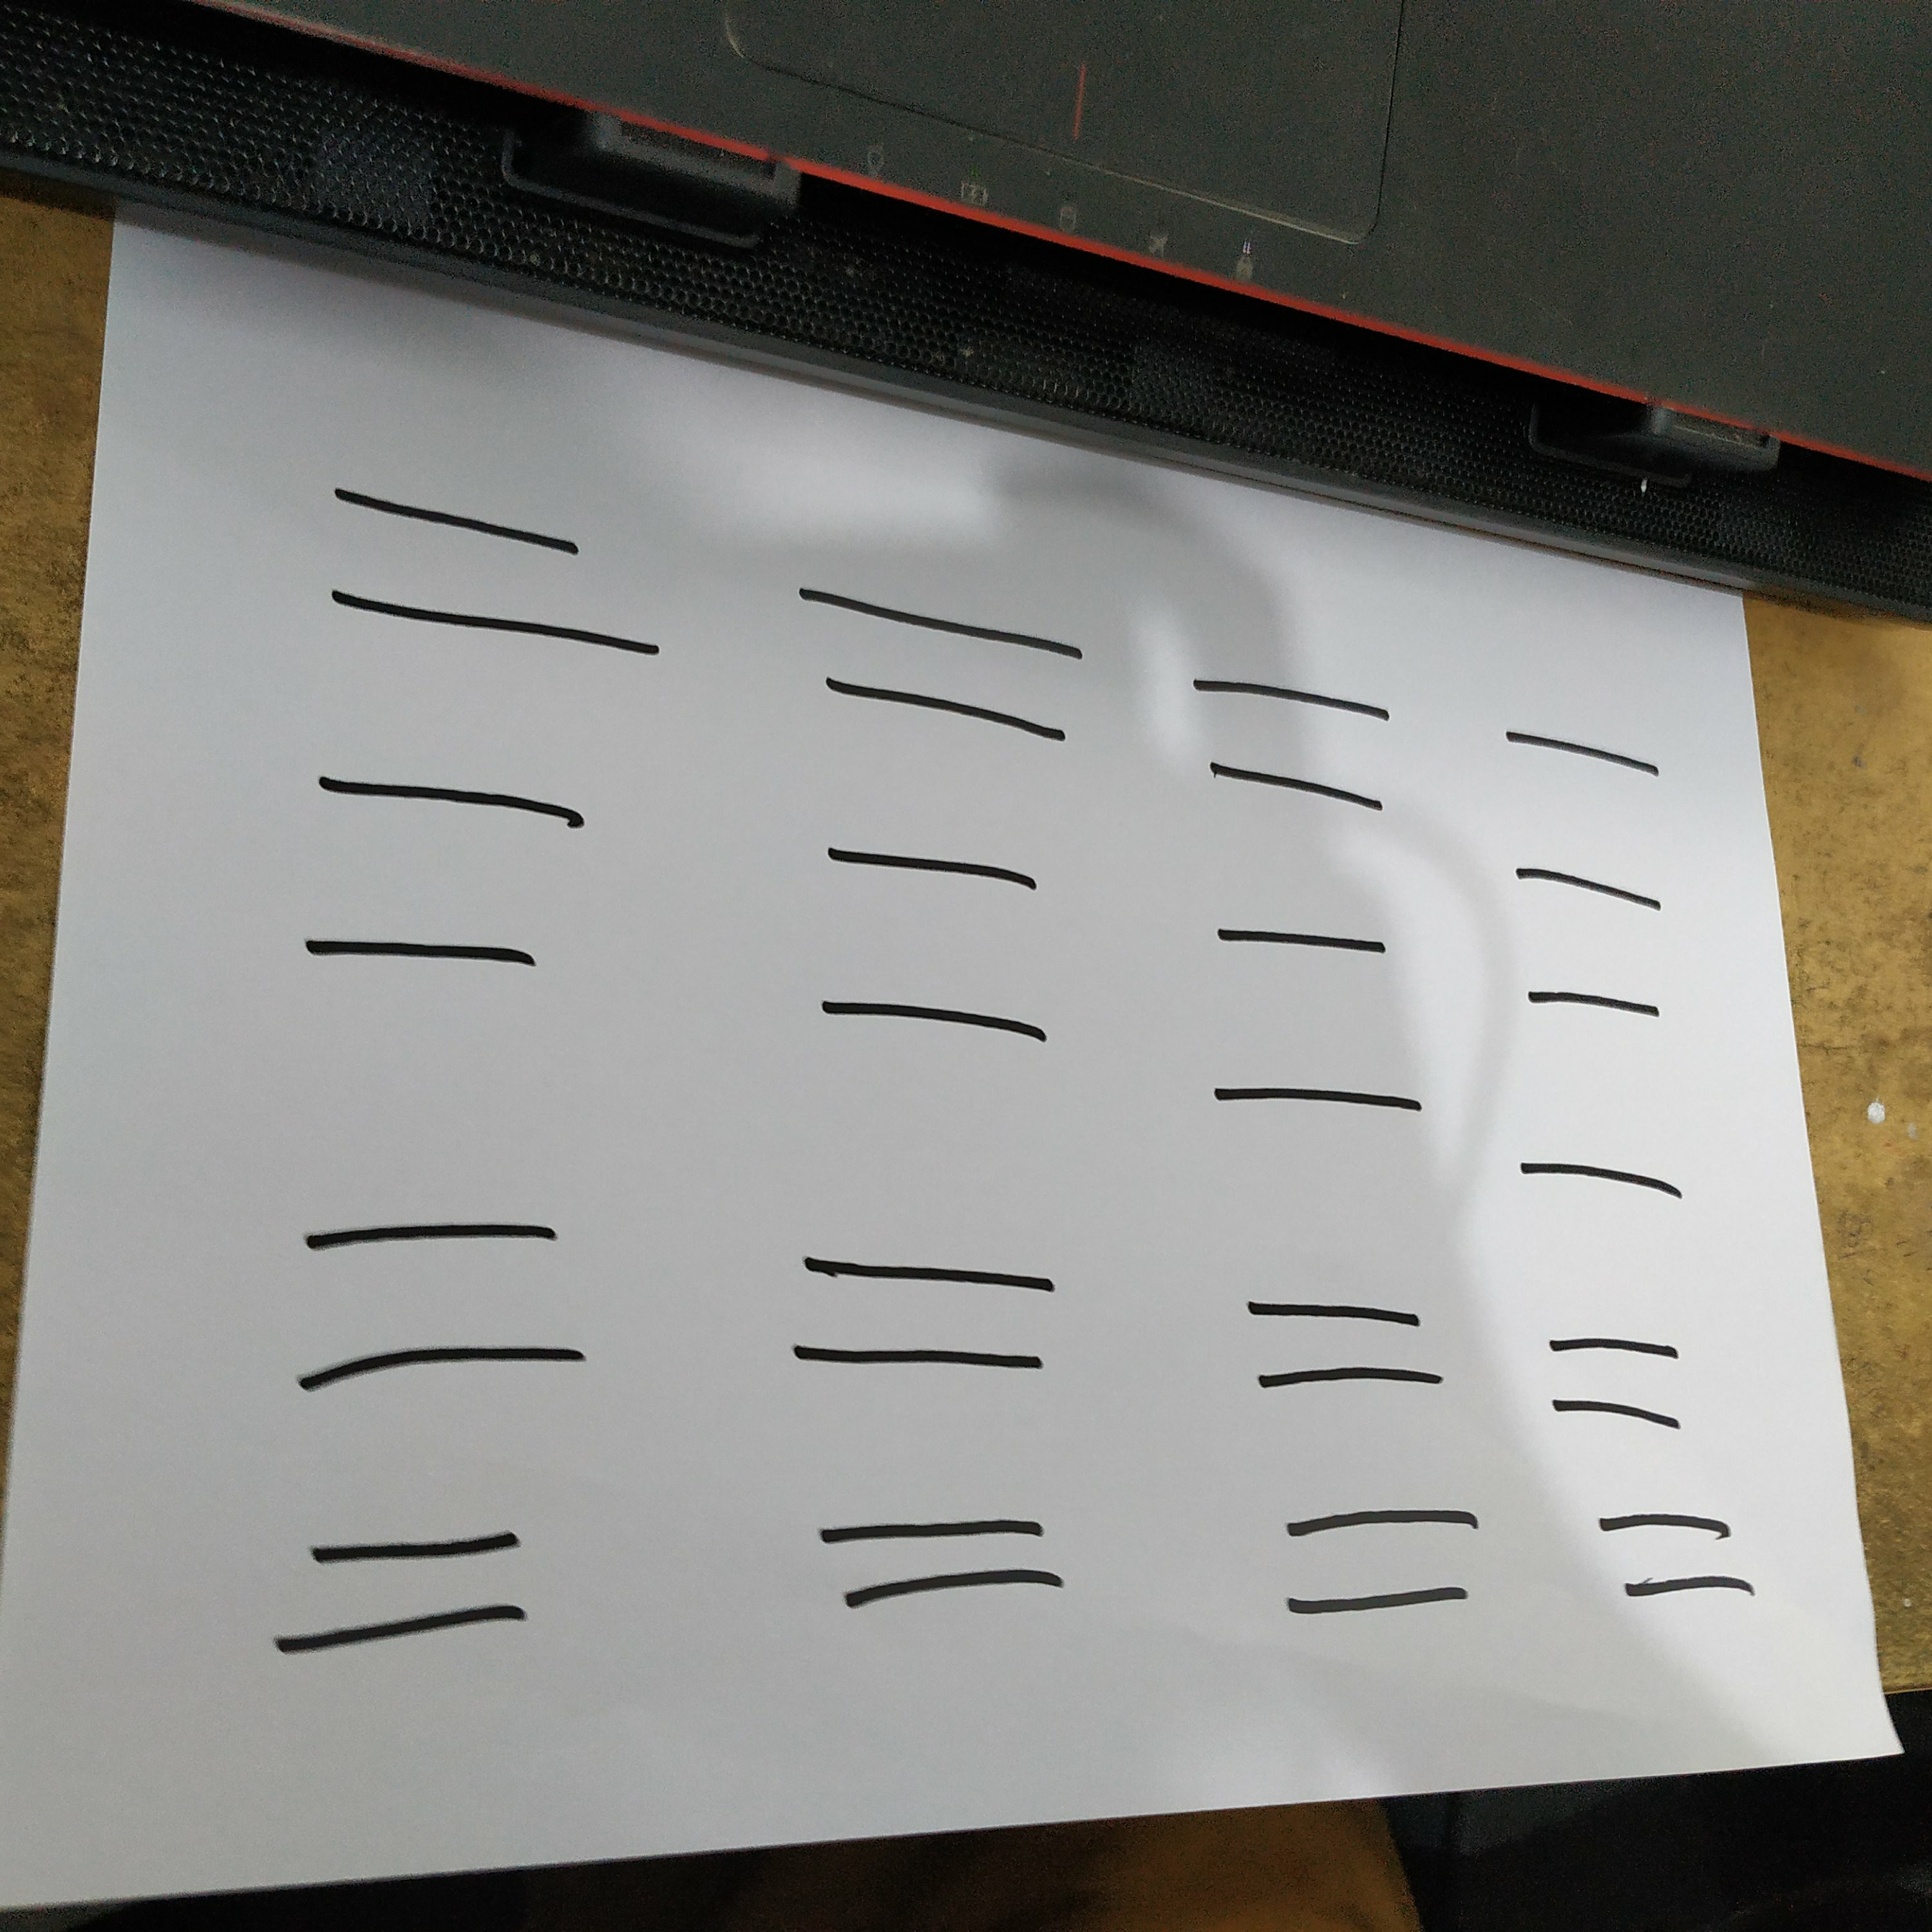equal: (290, 442, 698, 694), (245, 747, 607, 1001), (768, 542, 1110, 770), (796, 811, 1084, 1077), (265, 1192, 628, 1401), (1179, 897, 1455, 1143), (759, 1209, 1086, 1408), (251, 1506, 587, 1674), (1499, 965, 1707, 1211), (1482, 694, 1701, 927), (1202, 1262, 1471, 1428), (1162, 659, 1422, 827), (788, 1500, 1108, 1627), (1502, 1289, 1721, 1467), (1258, 1492, 1502, 1623), (1580, 1496, 1785, 1625)
